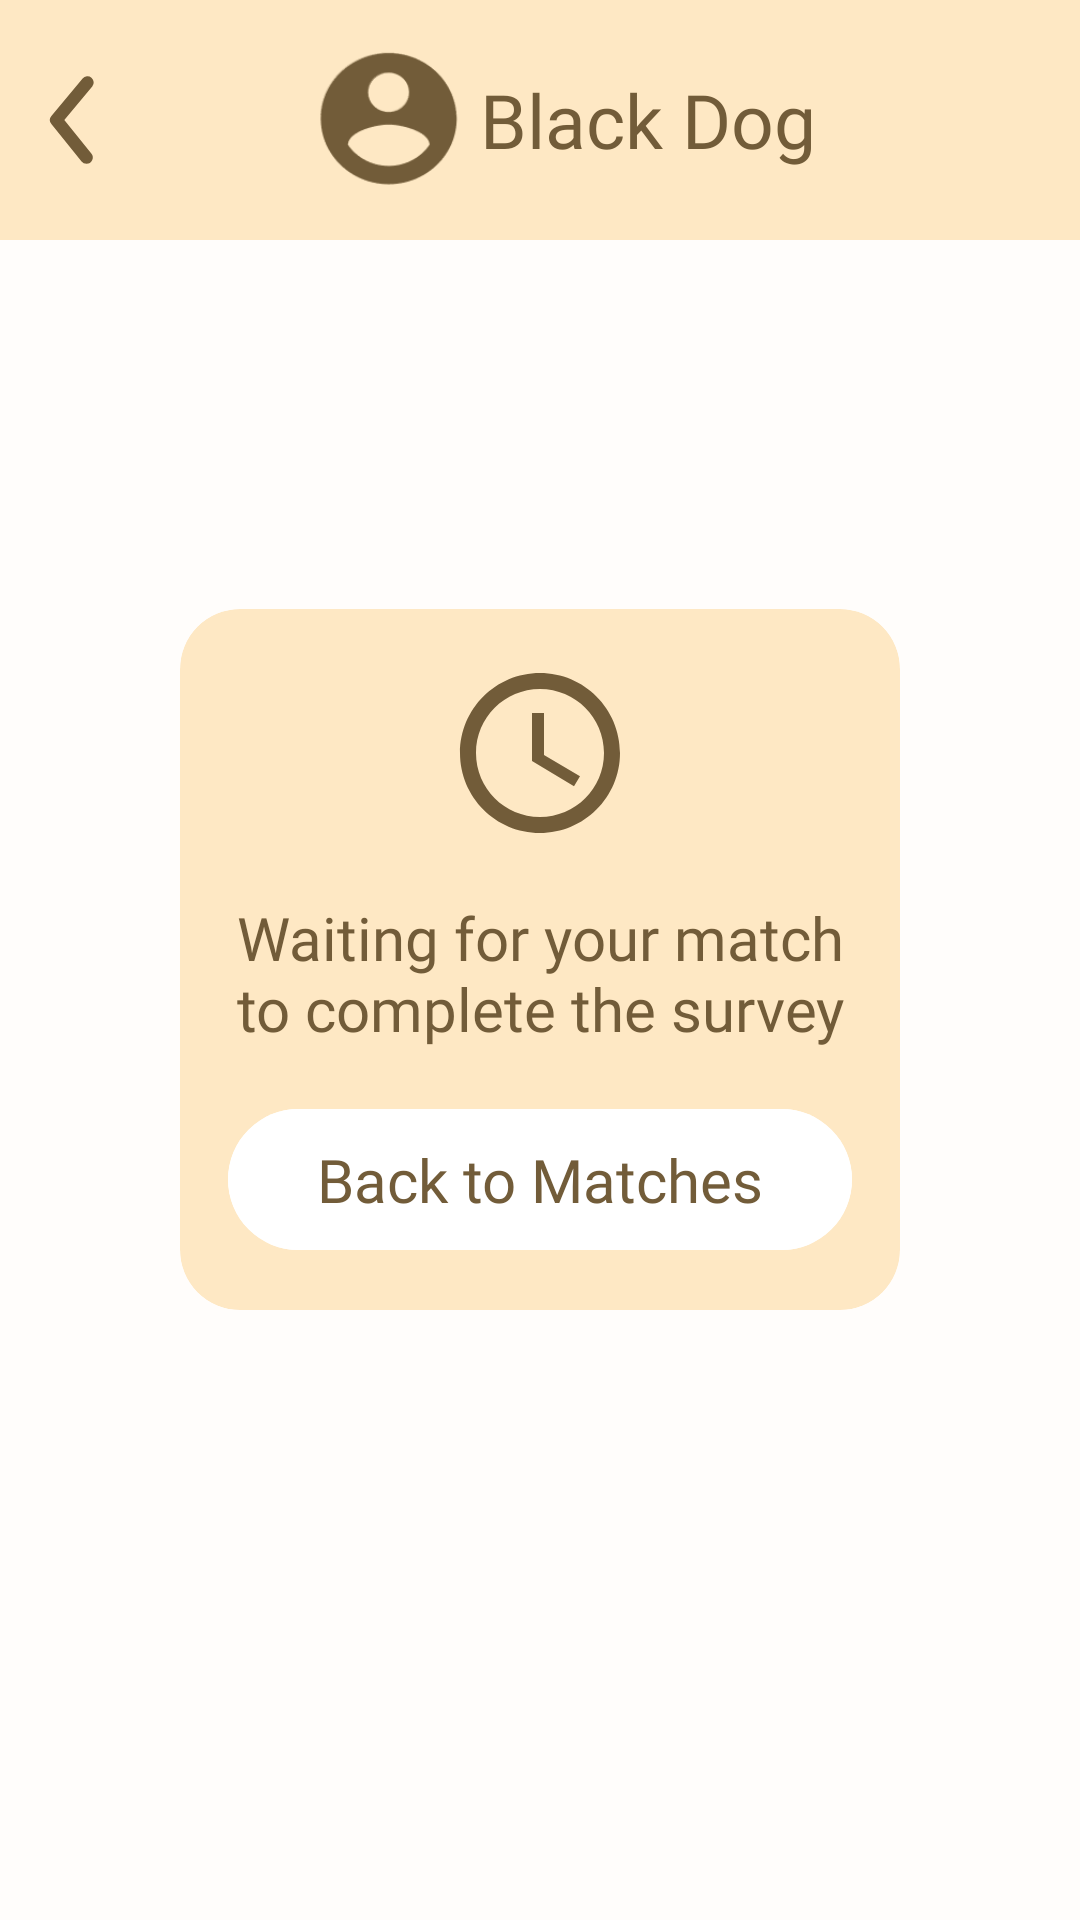

Screen size 1080*1920. Icon name, then its box in pixels as region(x1, y1, x2, y2):
on surface profile photo: region(320, 53, 457, 185)
